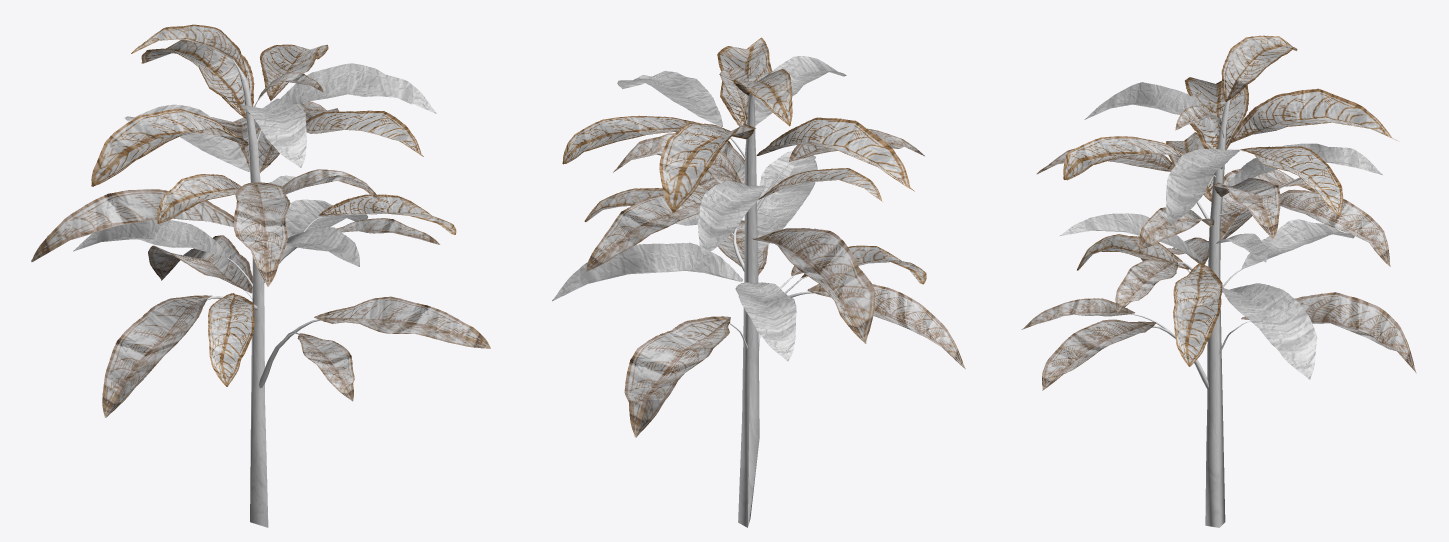
The model's file is sapling.gltf.
3 views of the same model, side by side, from view 1: azimuth 30°, elevation 25°; view 2: azimuth 150°, elevation 25°; view 3: azimuth 270°, elevation 25° (orthographic). The views are drawn at different scales.
Parts seen in each view (by area): view 1: Tree; view 2: Tree; view 3: Tree.
Part boxes in pixels (bbox=[...]): Tree: bbox=[31, 24, 490, 527]; Tree: bbox=[552, 37, 965, 527]; Tree: bbox=[1021, 35, 1416, 527].
Bounding box in the file's own units: 0.8387 × 0.979 × 0.8152.
4 materials, 4 textured.
